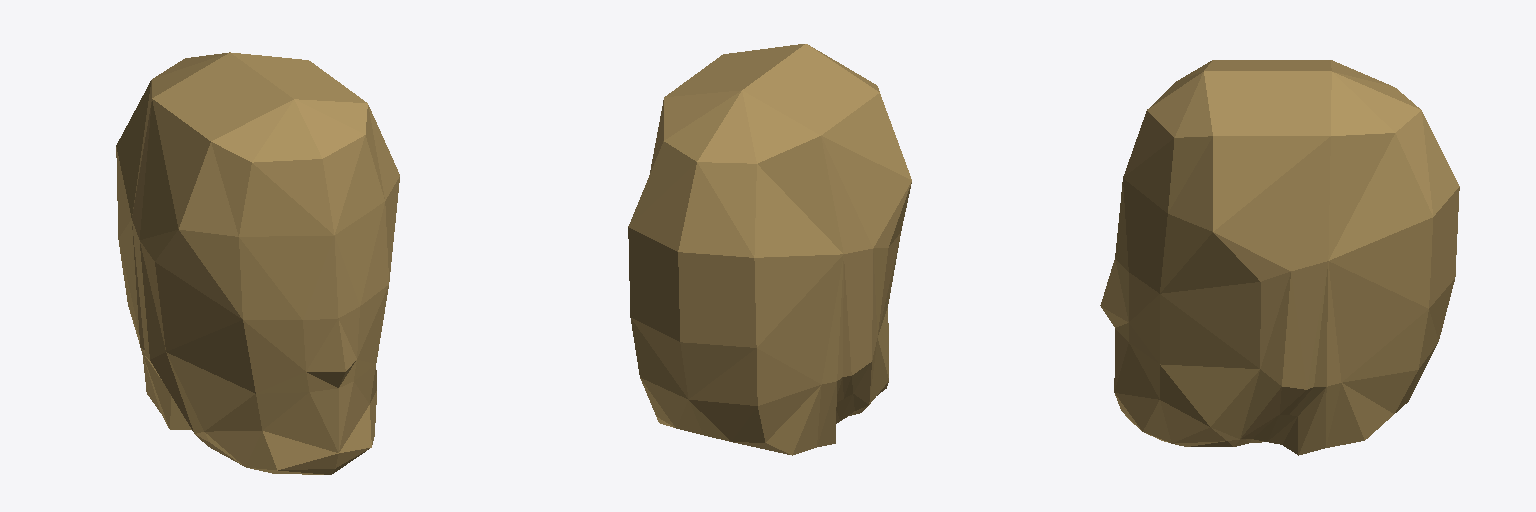
Rendered from head.obj.
3 views of the same model, side by side, from view 1: azimuth 30°, elevation 25°; view 2: azimuth 150°, elevation 25°; view 3: azimuth 270°, elevation 25° (orthographic).
Parts seen in each view (by area): view 1: cube1_cut7; view 2: cube1_cut7; view 3: cube1_cut7.
Part boxes in pixels (bbox=[...]): cube1_cut7: bbox=[116, 52, 399, 474]; cube1_cut7: bbox=[628, 44, 911, 455]; cube1_cut7: bbox=[1100, 60, 1459, 455].
Bounding box in the file's own units: 0.836 × 1.33 × 1.17.